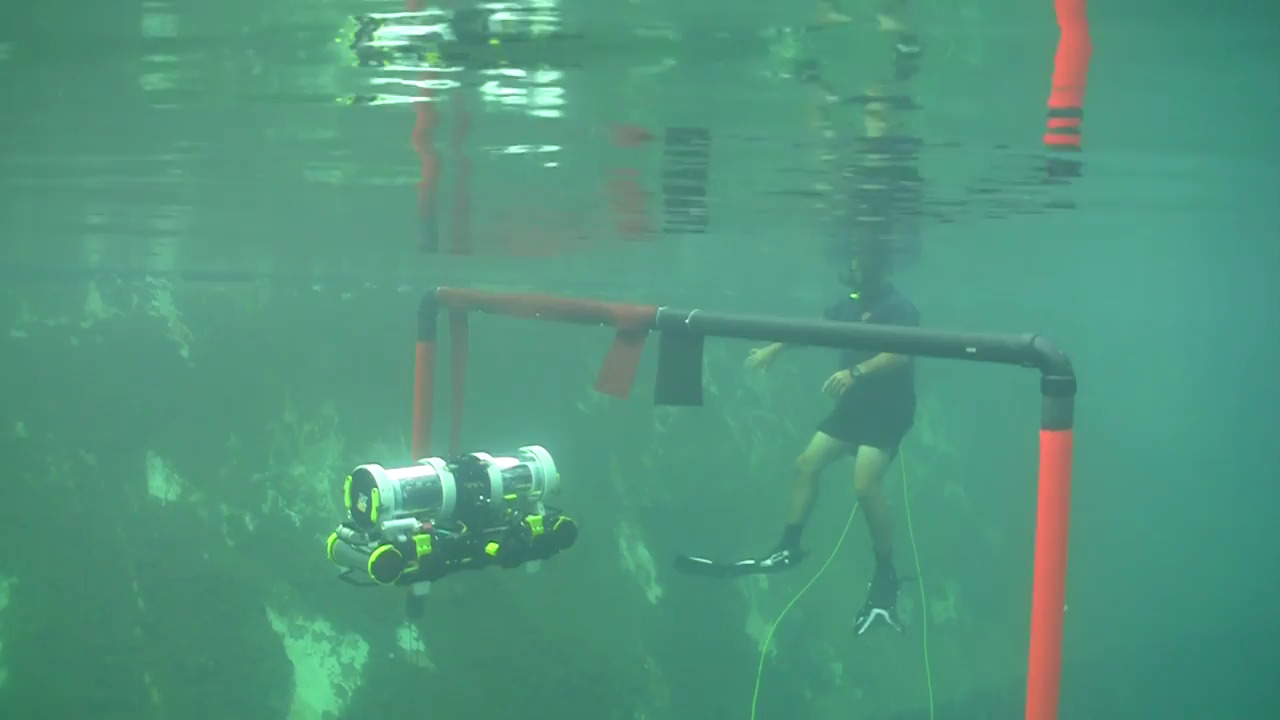gate: (400, 268, 1098, 720)
